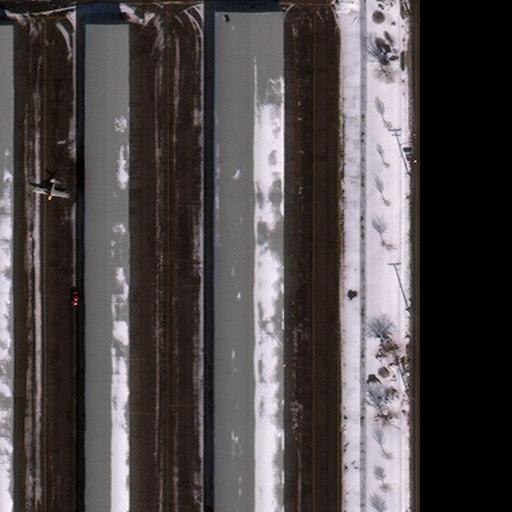Small Civil Transport: (32, 178, 68, 200)
